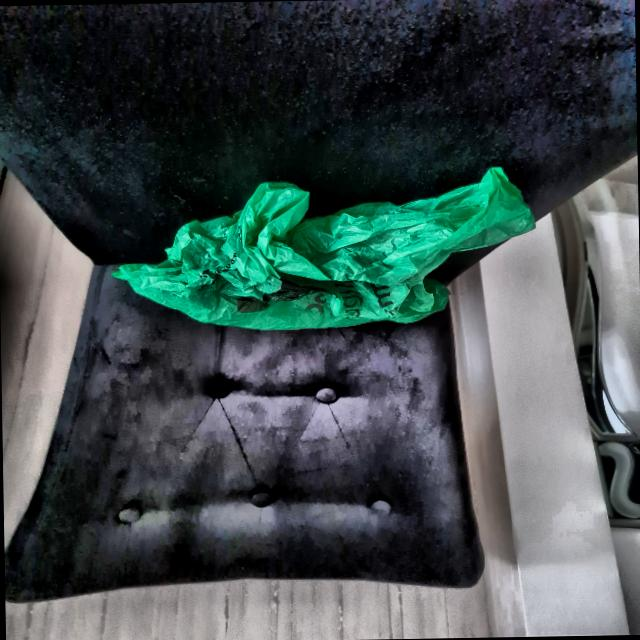plastic bag: (104, 162, 566, 353)
